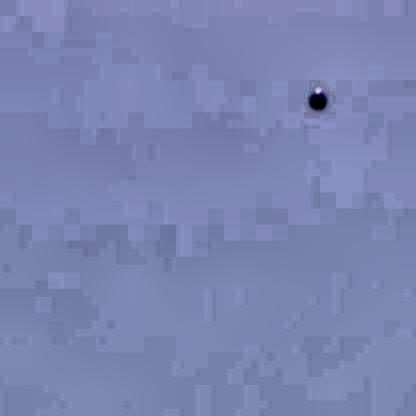golfball: (304, 82, 323, 107)
